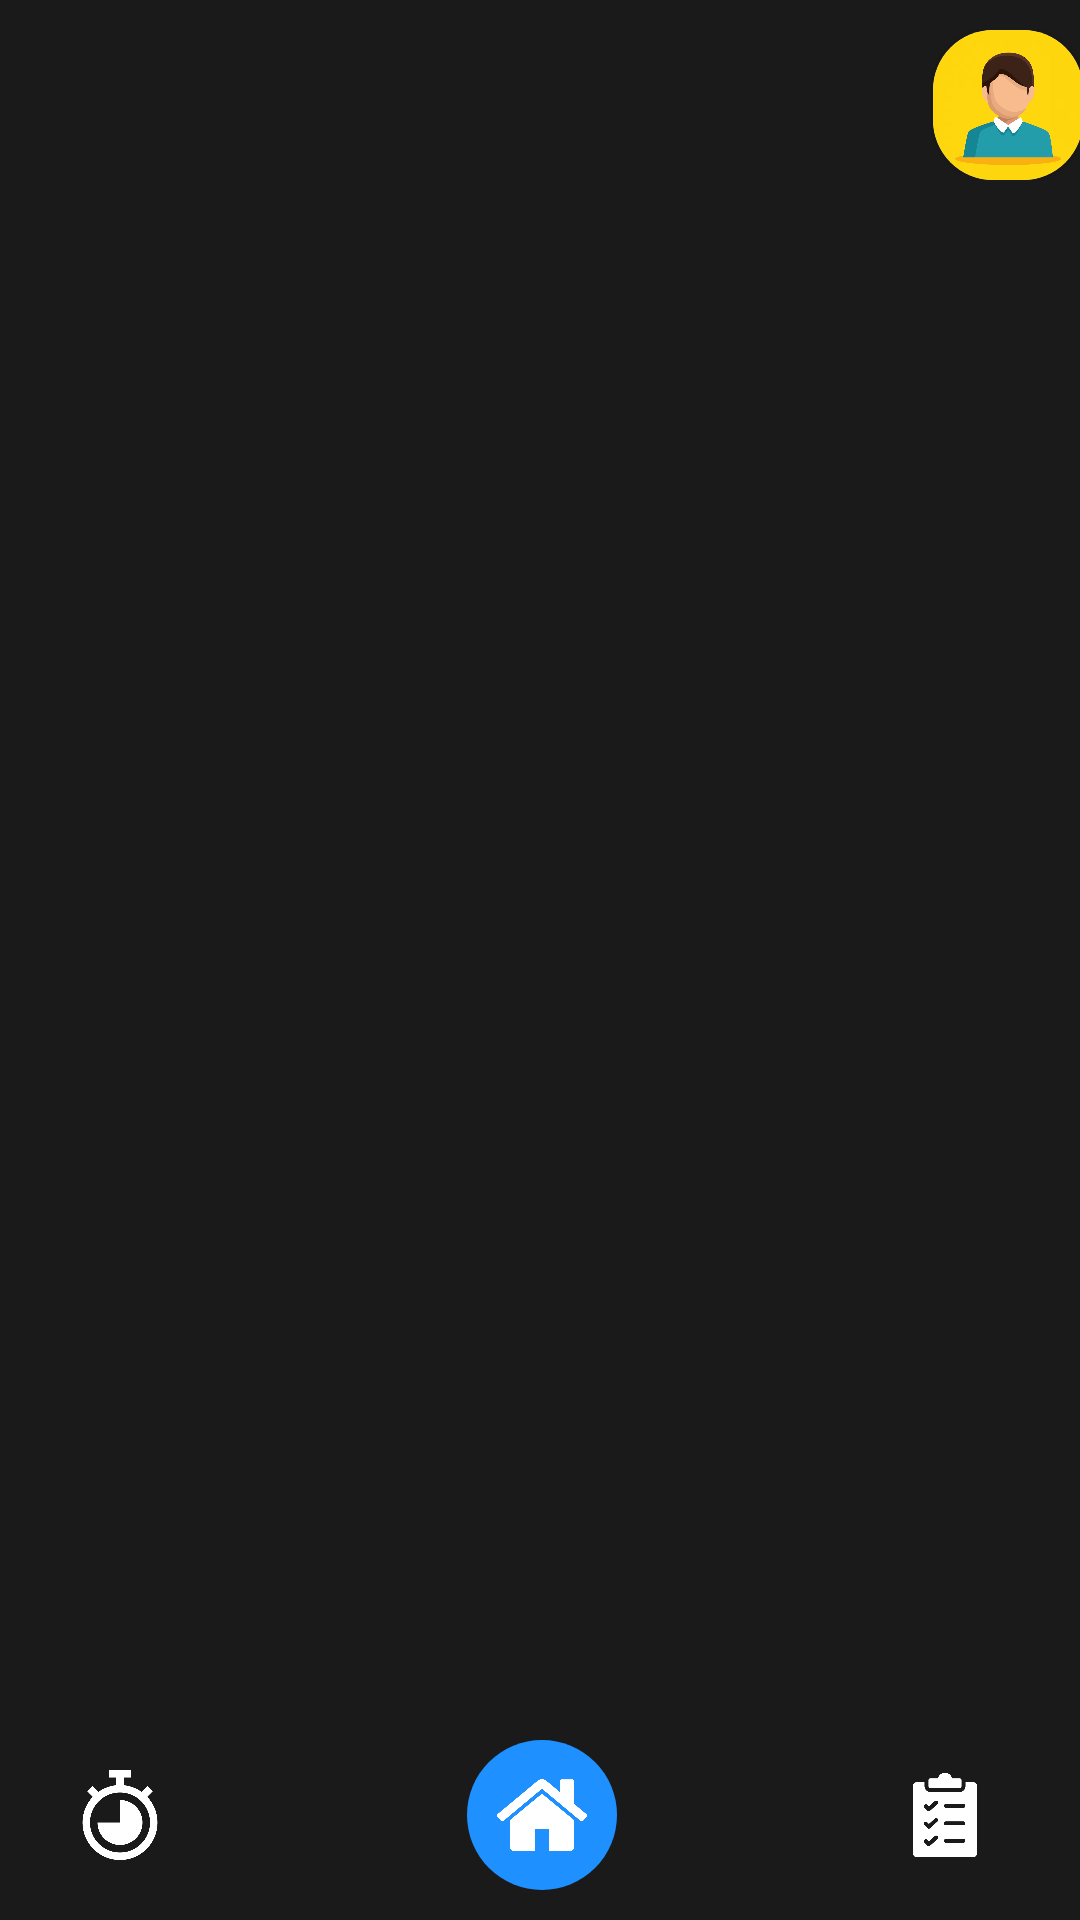

Locate icon controls on the screen. Image size 1080 x 1920, boxes as Rect(x1, y1, x2, y2).
checklist: Rect(913, 1773, 977, 1857)
home: Rect(467, 1740, 617, 1890)
timer: Rect(82, 1770, 158, 1860)
